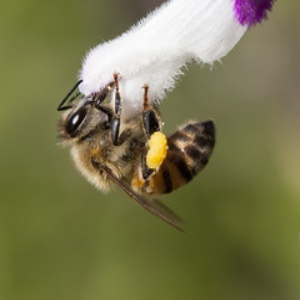bee: (59, 77, 221, 241)
